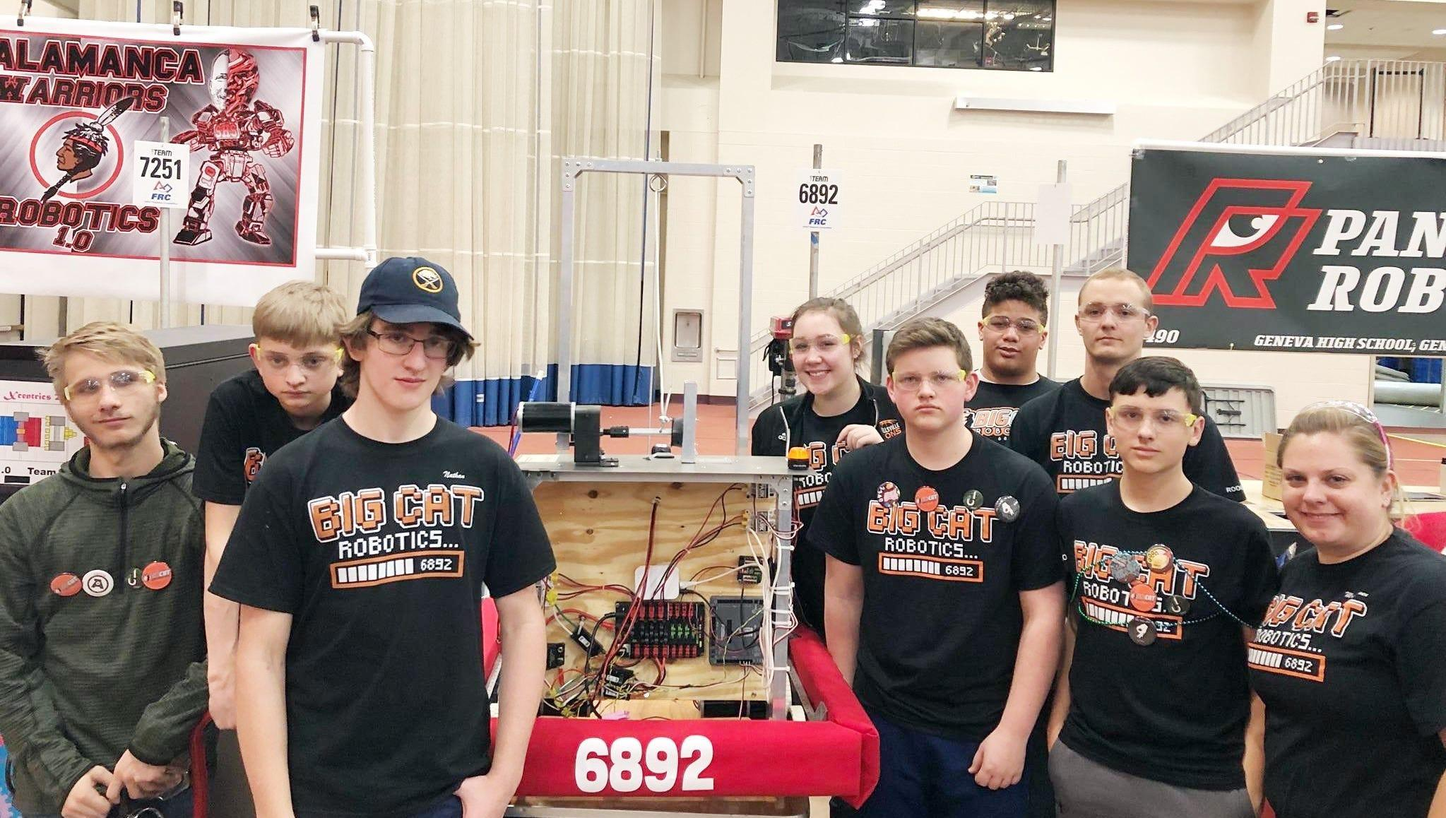robot: (477, 150, 890, 814)
